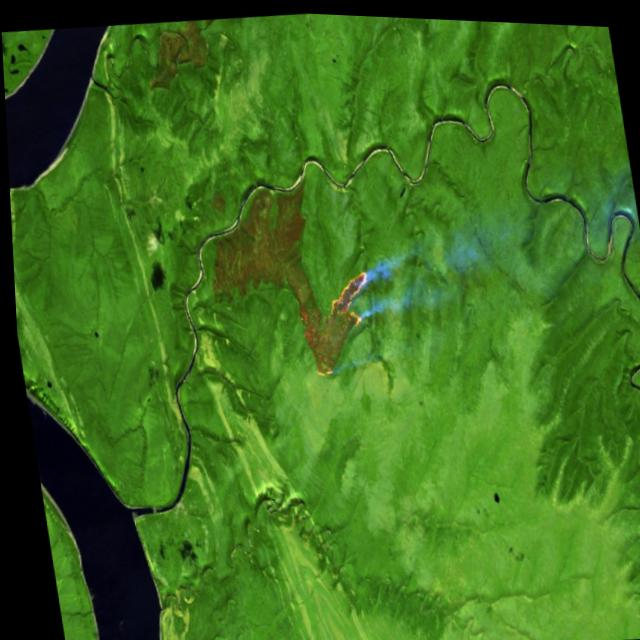fire: (290, 262, 383, 380)
